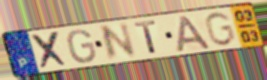A: (175, 14, 213, 53)
G: (203, 11, 238, 47), (66, 28, 98, 65)
N: (98, 21, 139, 63)
T: (132, 19, 159, 56)
X: (29, 30, 71, 71)
